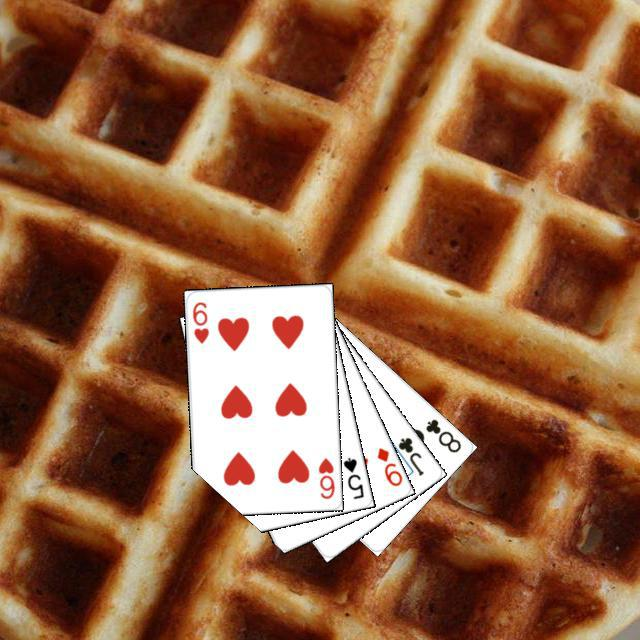5s: (338, 452, 365, 501)
6h: (314, 453, 336, 501), (188, 297, 210, 345)
8c: (421, 414, 463, 454)
9d: (372, 442, 404, 488)
Jc: (393, 432, 425, 477)
